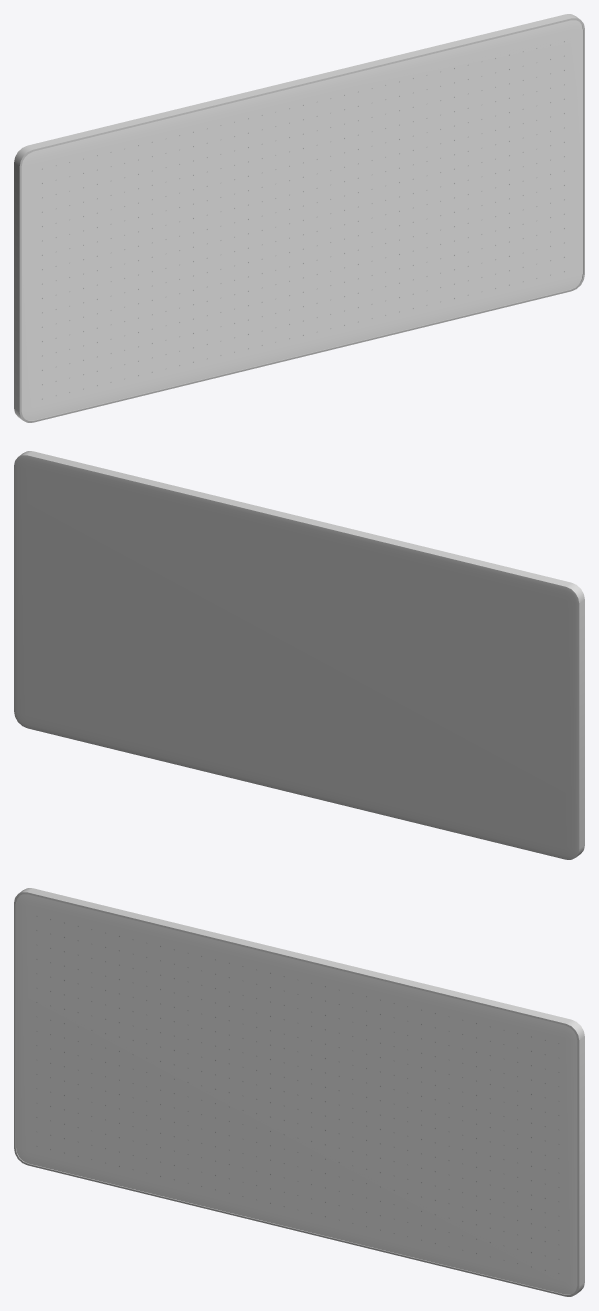
Rendered from whiteboard-v5.fbx.
The picture shows the model from 3 angles, top to bottom: view 1: azimuth 30°, elevation 25°; view 2: azimuth 150°, elevation 25°; view 3: azimuth 330°, elevation 25°; orthographic projection.
Parts seen in each view (by area): view 1: Cube; view 2: Cube; view 3: Cube.
Part boxes in pixels (x1,y1,x2,y2): Cube: (14, 14, 584, 422); Cube: (14, 451, 584, 859); Cube: (14, 888, 584, 1296).
Size of the model in its own units: 426 by 197 by 7.84.
Materials: 2 (1 with a texture image).
